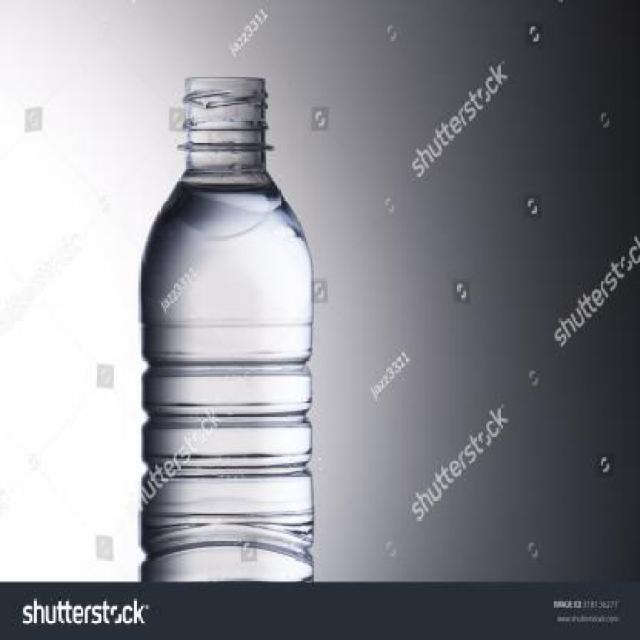bottle: (119, 39, 332, 582)
